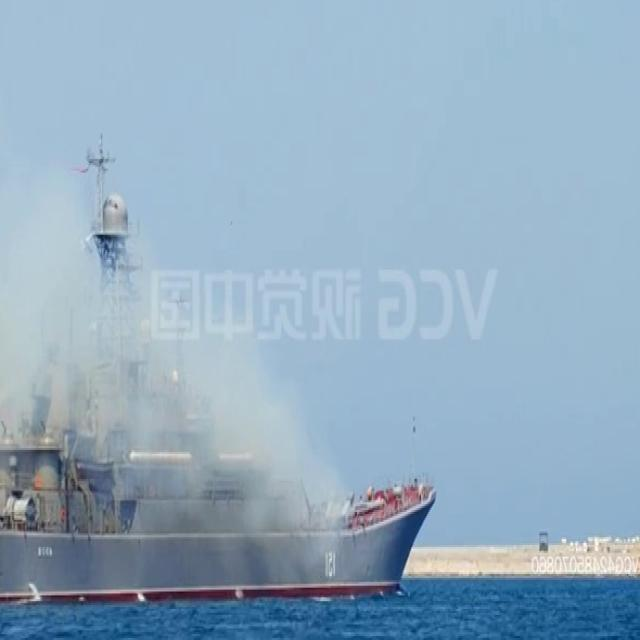navalvessels: (0, 198, 432, 613)
